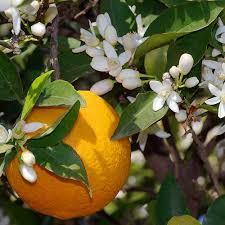orange: (3, 78, 142, 194)
